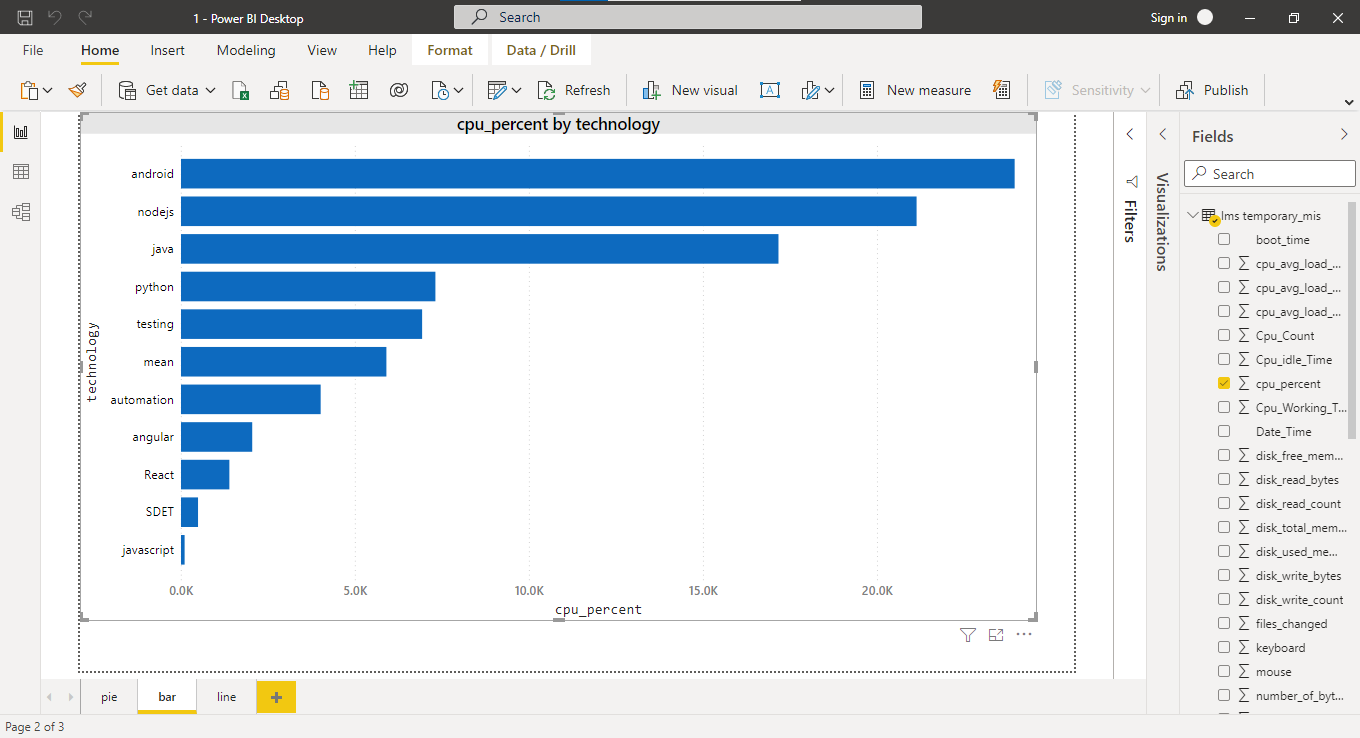

This screenshot's page, from the dashboard's own definition file:
{"tool":"powerbi","page":{"name":"bar","canvas":[1280,720],"ordinal":1},"visuals":[{"type":"clusteredBarChart","fields":{"Category":["lms temporary_mis.technology"],"Y":["Sum(lms temporary_mis.cpu_percent)"]},"box":[0,0,1232,656],"z":0}]}

Visuals, with their boxes on the page's 1280x720 design canvas (x1, y1, x2, y2). These are canvas units, not pixel positions in the 1360x738 screenshot, which may show the page scaled, cropped or inside an application window:
clusteredBarChart - lms temporary_mis.technology x Sum(lms temporary_mis.cpu_percent): crop(0, 0, 1232, 656)
